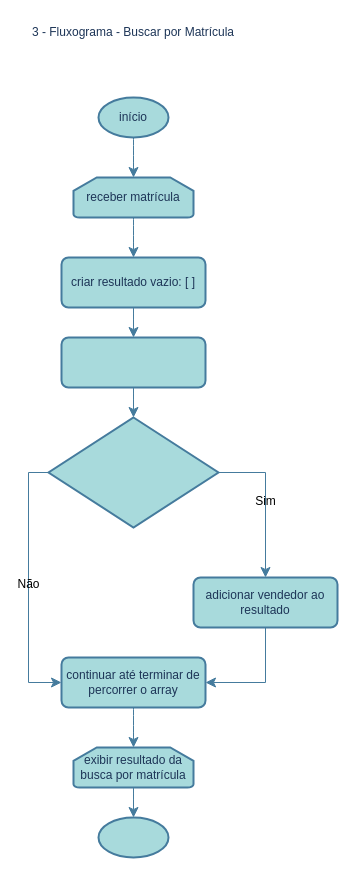
Image size: 355x875. Some labels were removed from this diagram. The centre of each missing label's shape, as x and y in pixels:
a matrícula do vendedor é igual à informada?: point (133, 472)
fim: point (133, 837)
percorrer todos os vendedores com forEach: point (133, 362)
